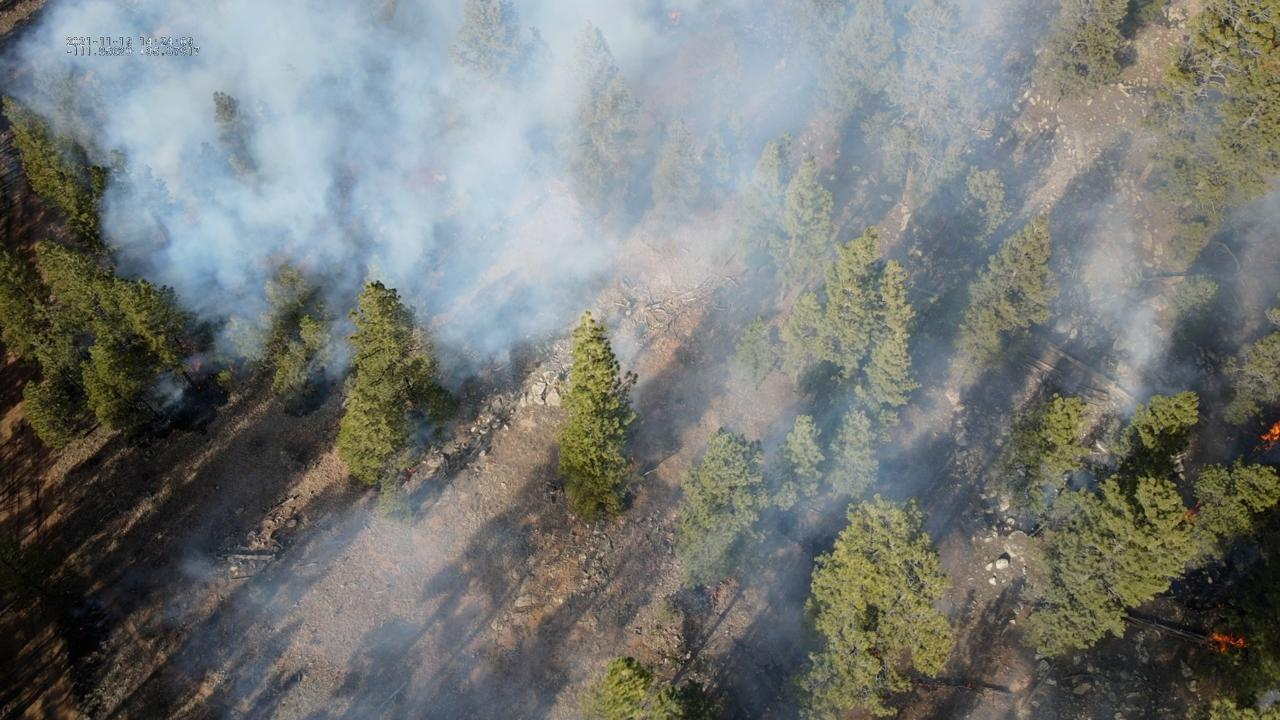fire: (1212, 634, 1245, 653), (1257, 422, 1280, 441), (1181, 508, 1200, 526), (192, 357, 202, 373), (197, 386, 201, 390)
smoke: (0, 0, 1280, 631), (128, 486, 587, 720)
